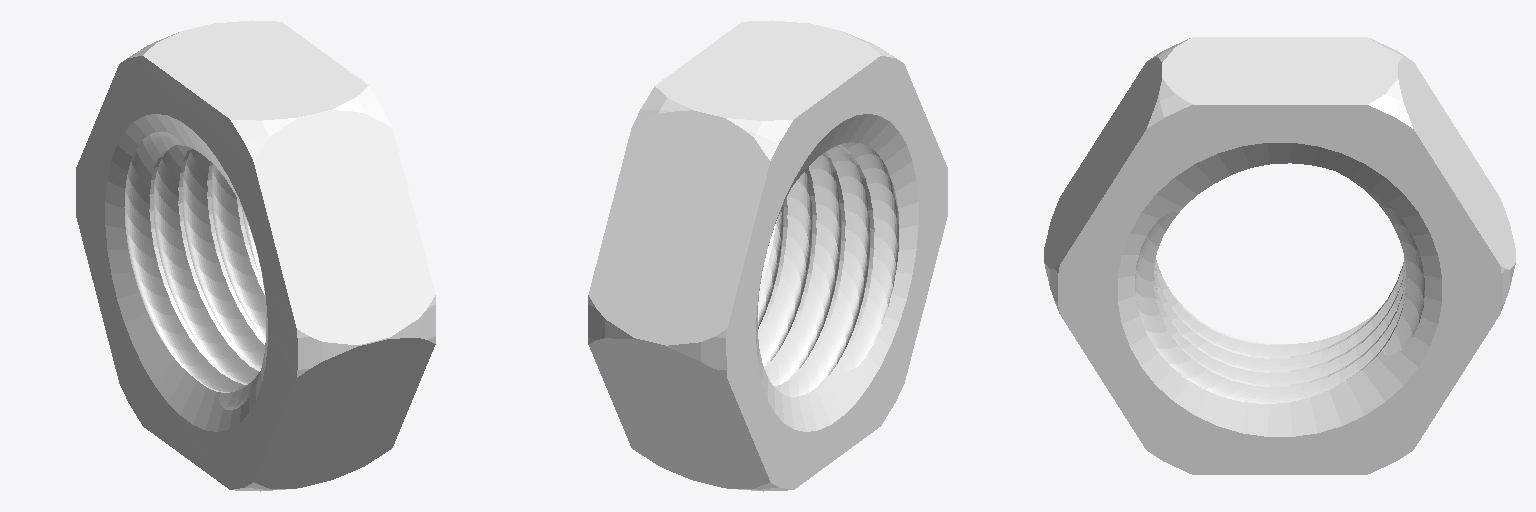
robot.urdf — board:
<?xml version="0.0" ?>
<robot name="board">
    <material name="white">
        <color rgba="1 1 1 1"/>
    </material>

    <link name="baseLink">
        <!-- from lego/lego.urdf -->
        <inertial>
            <origin rpy="0 0 0" xyz="0 0 0"/>
            <mass value="100.0"/>
            <inertia ixx="1" ixy="0" ixz="0" iyy="1" iyz="0" izz="1"/>
        </inertial>
        <visual>
            <origin rpy="1.57 0 0" xyz="0 0 0"/>
            <geometry>
                <!--        radius: 10mm, depth: 14.5mm-->
                <mesh filename="meshes/upper_nut.obj" scale="0.75 0.75 0.75"/>
                <!--        <box size="0.002 0.002 0.002"/>-->
            </geometry>
            <material name="white"/>
        </visual>
        <collision>
            <origin rpy="1.57 0 0" xyz="0 0 0"/>
            <geometry>
                <mesh filename="meshes/upper_nut.obj" scale="0.75 0.75 0.75"/>
                       <!-- <box size="2 2 2"/> -->
            </geometry>
        </collision>
    </link>
</robot>

--- Render facts (derived) ---
3 views of the same robot in one strip: view 1: azimuth 30°, elevation 25°; view 2: azimuth 150°, elevation 25°; view 3: azimuth 270°, elevation 25° (orthographic).
Model board with 1 links and 0 joints (none), rooted at baseLink, posed all joints at 0.
Visible links, largest first — view 1: baseLink; view 2: baseLink; view 3: baseLink.
Link boxes in pixels (<box>): baseLink: <box>76,20,435,491</box>; baseLink: <box>588,20,947,491</box>; baseLink: <box>1044,37,1515,474</box>.
Size in the robot's own frame: 0.0732 by 0.2151 by 0.1867 metres.
1 mesh visuals loaded from 1 distinct referenced files (1 OBJ).